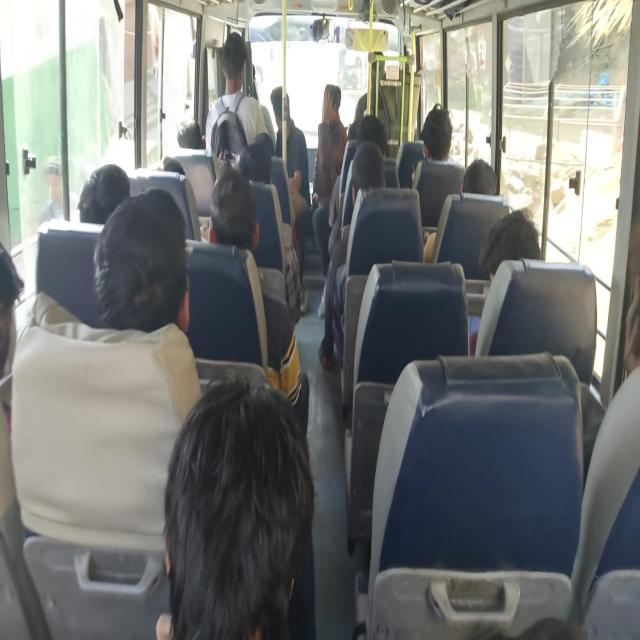person: (146, 393, 352, 640), (96, 198, 192, 334), (205, 176, 277, 278), (49, 148, 130, 222), (0, 234, 39, 354), (354, 145, 411, 220), (485, 198, 546, 260), (218, 36, 254, 106), (235, 153, 279, 205), (455, 151, 499, 201), (137, 156, 195, 192), (358, 107, 394, 162), (420, 112, 464, 156), (271, 82, 299, 139), (323, 81, 347, 132), (178, 111, 194, 151), (250, 132, 267, 161)
